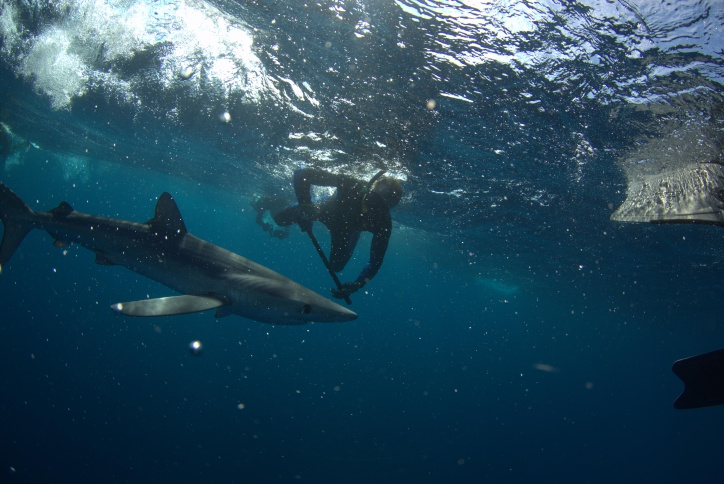Azul: (1, 168, 359, 355)
